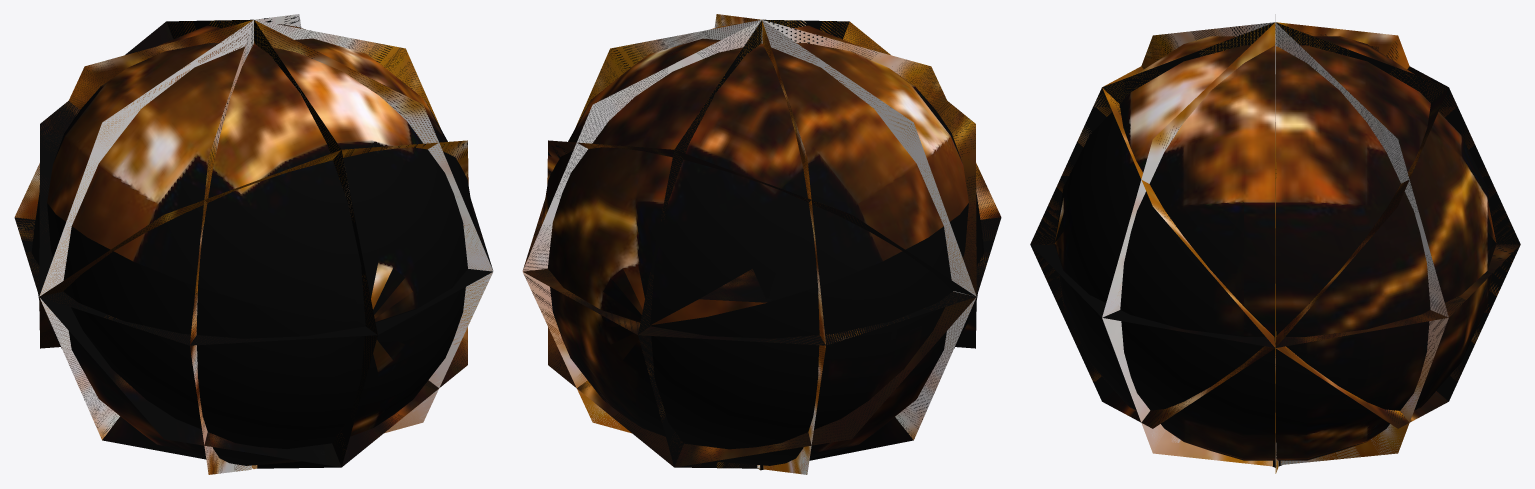
3 views of the same model, side by side, from view 1: azimuth 30°, elevation 25°; view 2: azimuth 150°, elevation 25°; view 3: azimuth 270°, elevation 25° (orthographic).
Parts seen in each view (by area): view 1: mesh_0; view 2: mesh_0; view 3: mesh_0.
Boxes of the visible parts, x1,y1,x2,y2 form: mesh_0: (14, 14, 493, 474); mesh_0: (522, 14, 1001, 474); mesh_0: (1030, 14, 1520, 473).
Bounding box in the file's own units: 6.42 × 6.42 × 6.42.
1 material, 1 textured.
